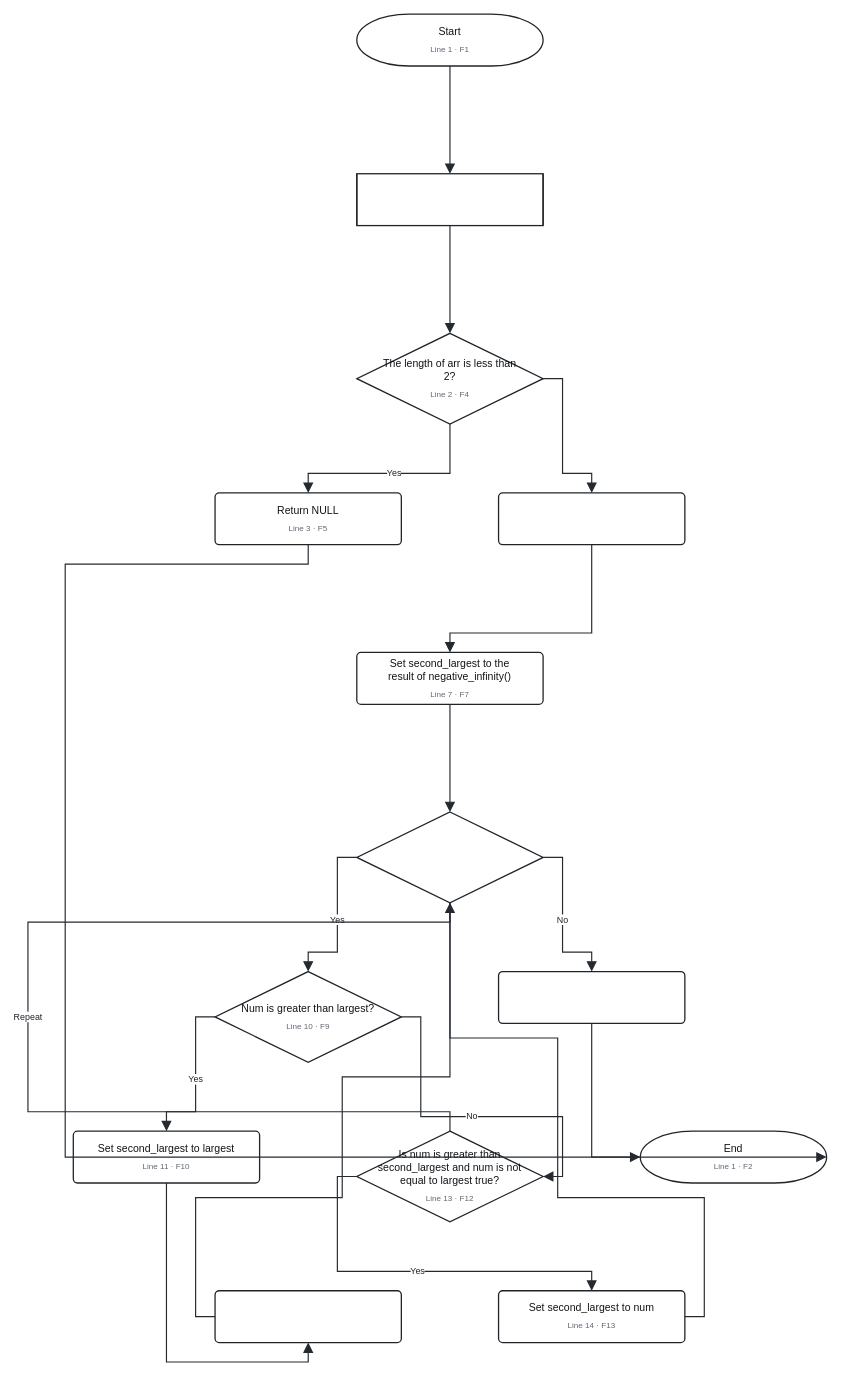
Image size: 851x1386. Some labels were removed from this diagram. The shapes that lost their labels are listed below. From the top down, each one's centre as x and y in pixels, then its label:
pixel 449 199: Run function FindSecondLargest with arr Line 1 · F3
pixel 591 518: Set largest to the result of negative_infinity() Line 6 · F6
pixel 449 857: For each num in arr Line 9 · F8
pixel 591 997: Return second_largest Line 18 · F14
pixel 308 1316: Set largest to num Line 12 · F11
